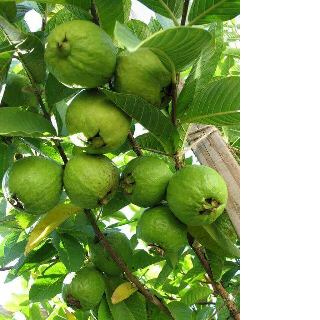oi: (39, 18, 121, 92), (59, 84, 134, 154), (103, 43, 178, 112), (1, 150, 72, 220), (166, 159, 226, 230), (131, 199, 192, 263), (62, 147, 120, 212), (118, 150, 178, 211)
